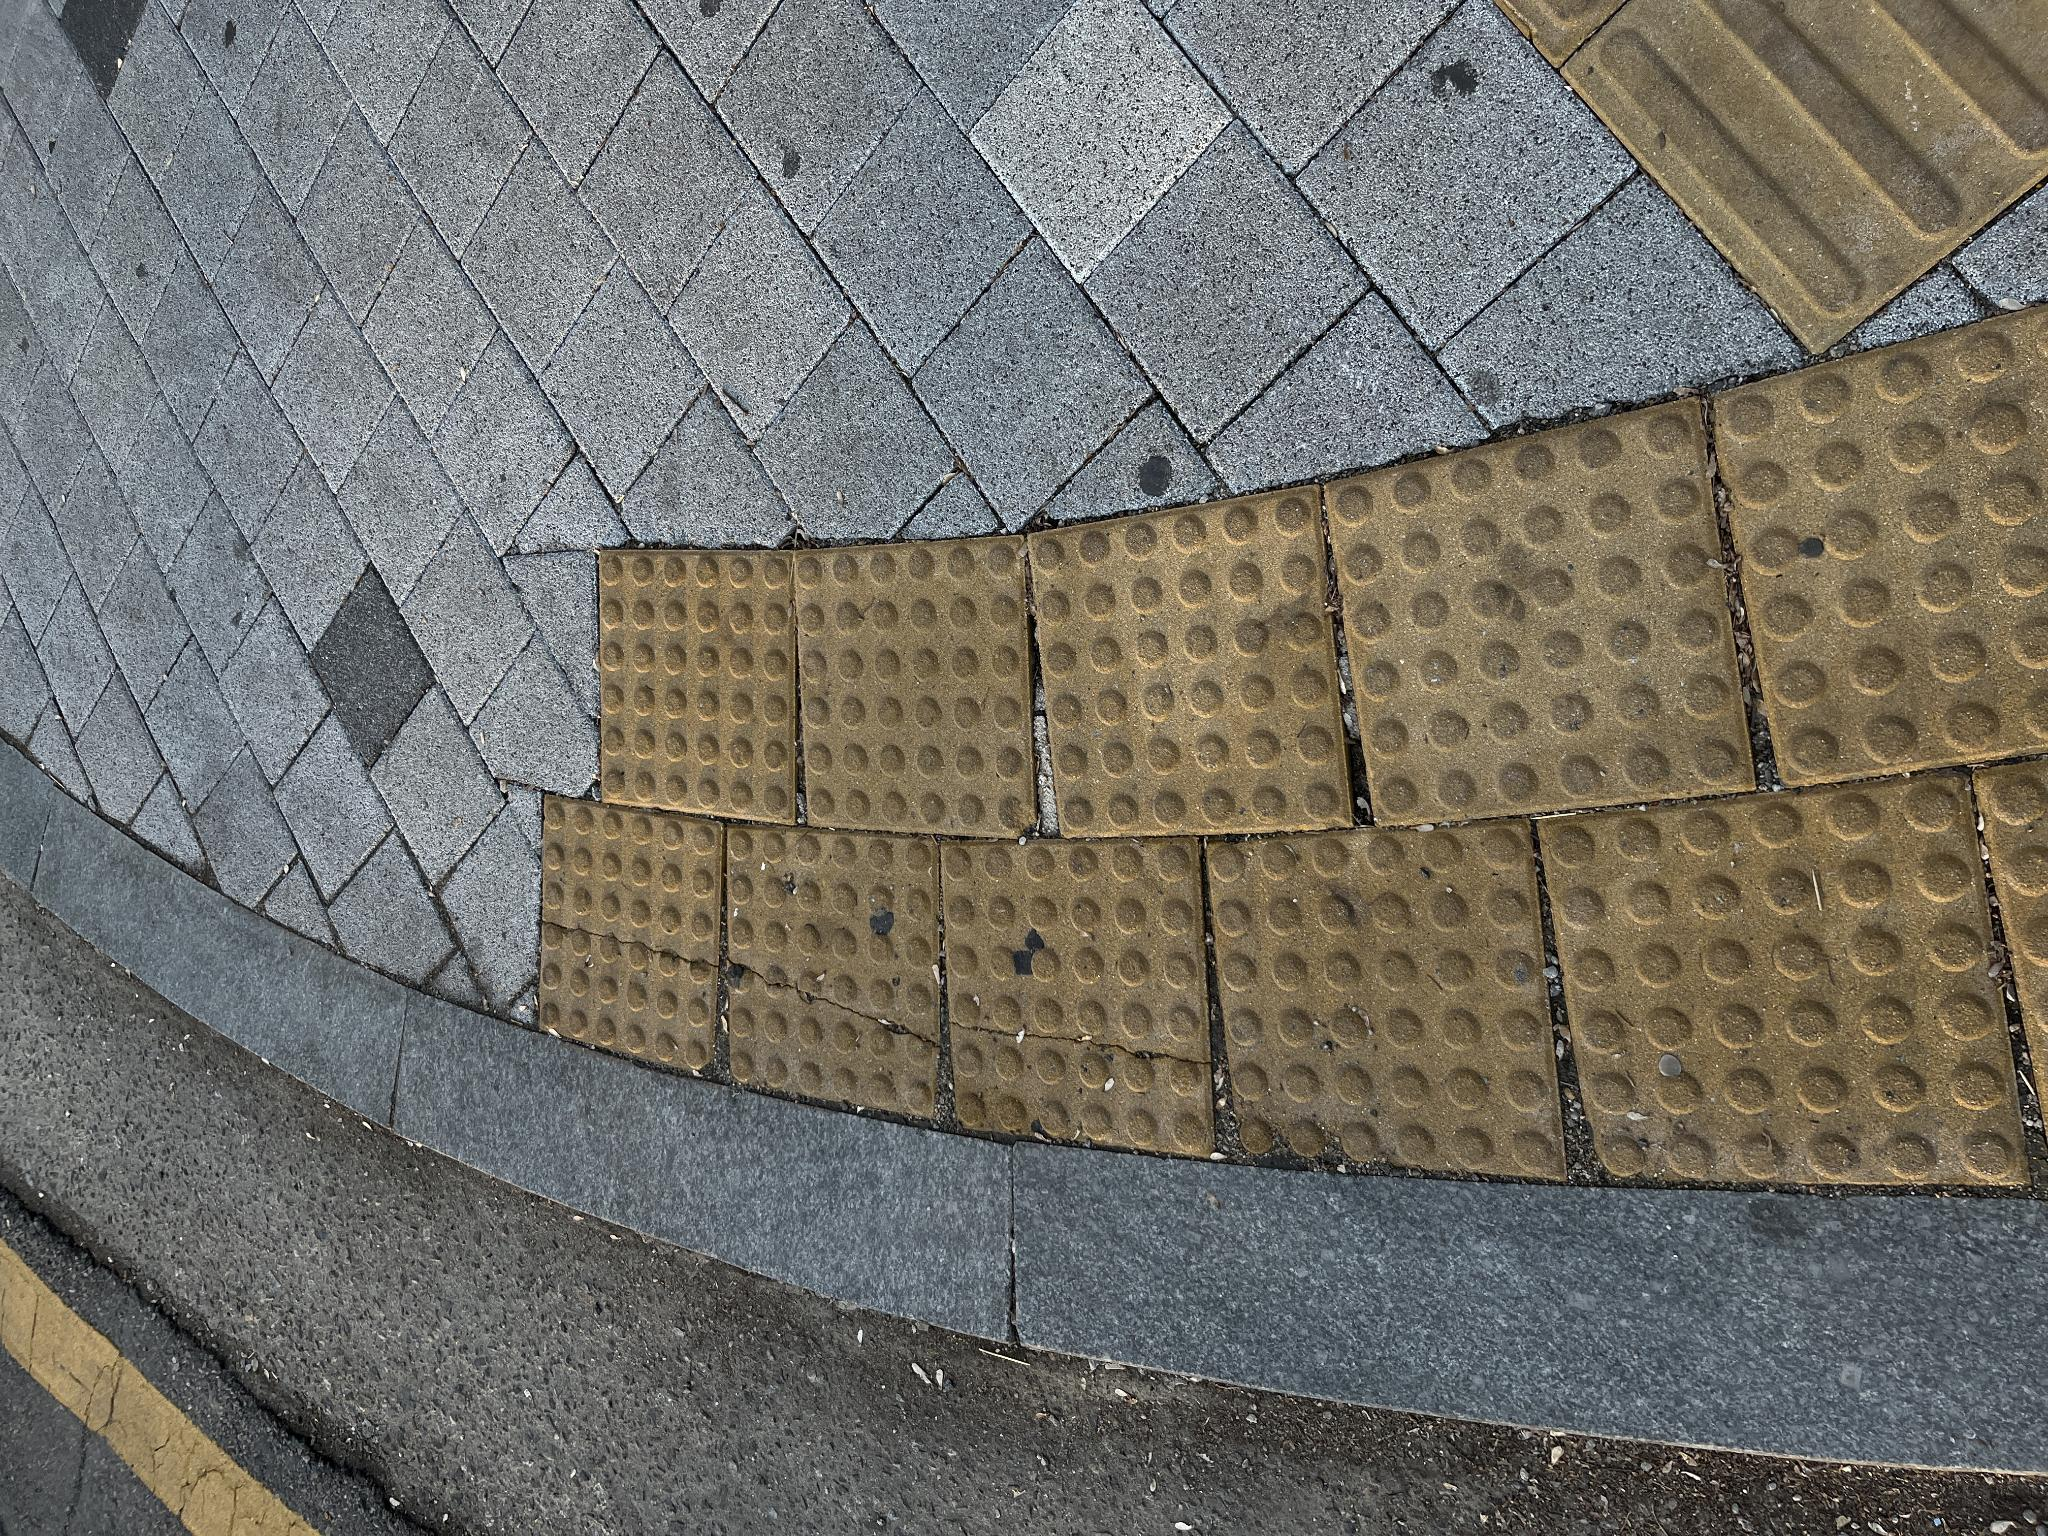Stop block normal: (361, 1205, 711, 1536), (701, 1029, 1047, 1342), (711, 1323, 1101, 1536), (705, 794, 995, 1025), (713, 599, 985, 797)
